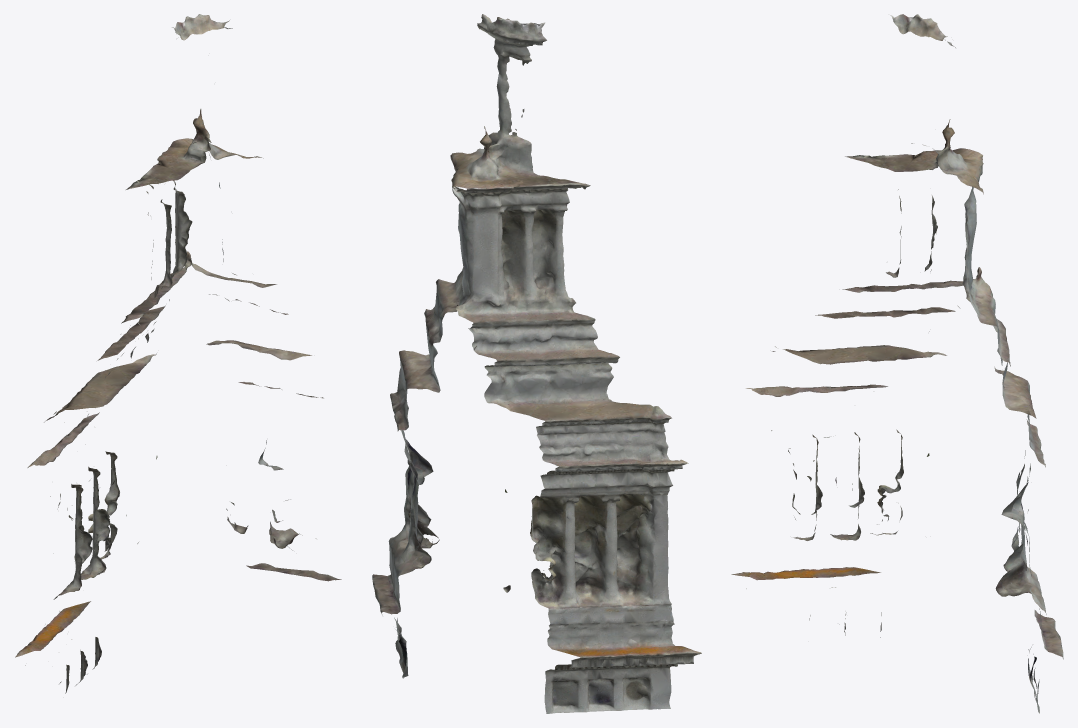
The picture shows the model from 3 angles, left to right: view 1: azimuth 30°, elevation 25°; view 2: azimuth 150°, elevation 25°; view 3: azimuth 330°, elevation 25°; orthographic projection.
Bounding box in the file's own units: 13.08 × 24.89 × 2.5.
Materials: 1 (1 with a texture image).
